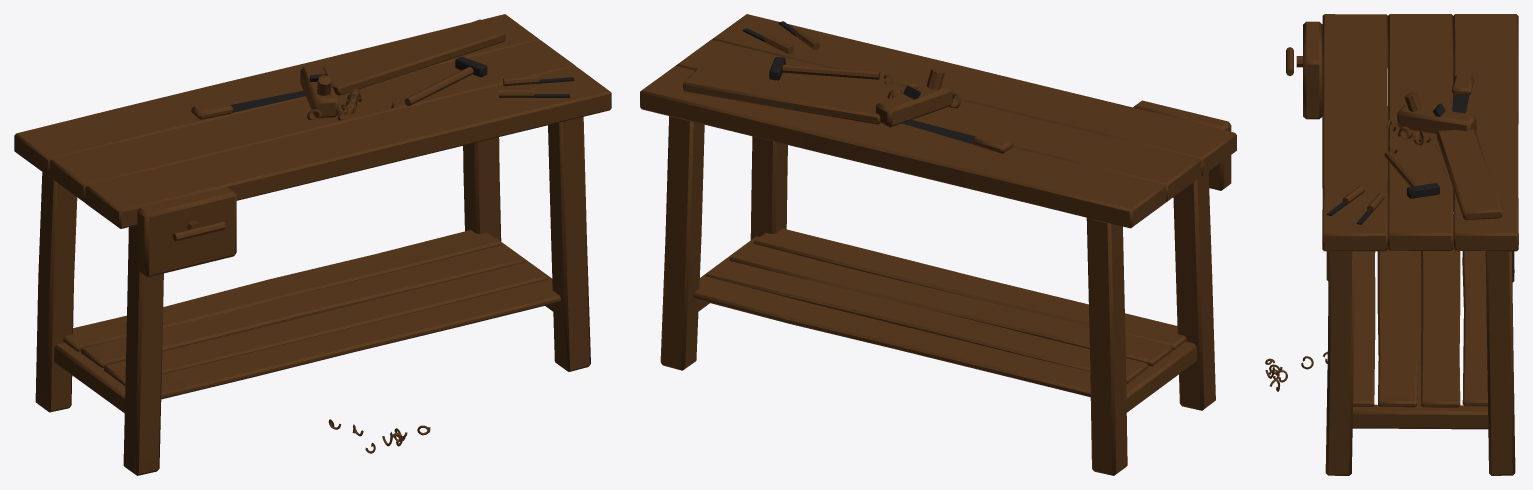
File: werkbank.glb
3 renders of one model, left to right at view 1: azimuth 30°, elevation 25°; view 2: azimuth 150°, elevation 25°; view 3: azimuth 270°, elevation 25°, orthographic. The views are drawn at different scales.
Visible parts, largest first — view 1: werkbank; view 2: werkbank; view 3: werkbank.
Boxes of the visible parts, x1,y1,x2,y2 form: werkbank: (14, 14, 611, 475); werkbank: (640, 14, 1236, 475); werkbank: (1265, 14, 1518, 475).
Size of the model in its own units: 1.6 by 0.9672 by 0.7768.
